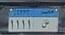1: (27, 19, 32, 30), (21, 19, 26, 30), (16, 19, 20, 30), (11, 19, 15, 30)
seen: (39, 19, 53, 31)
